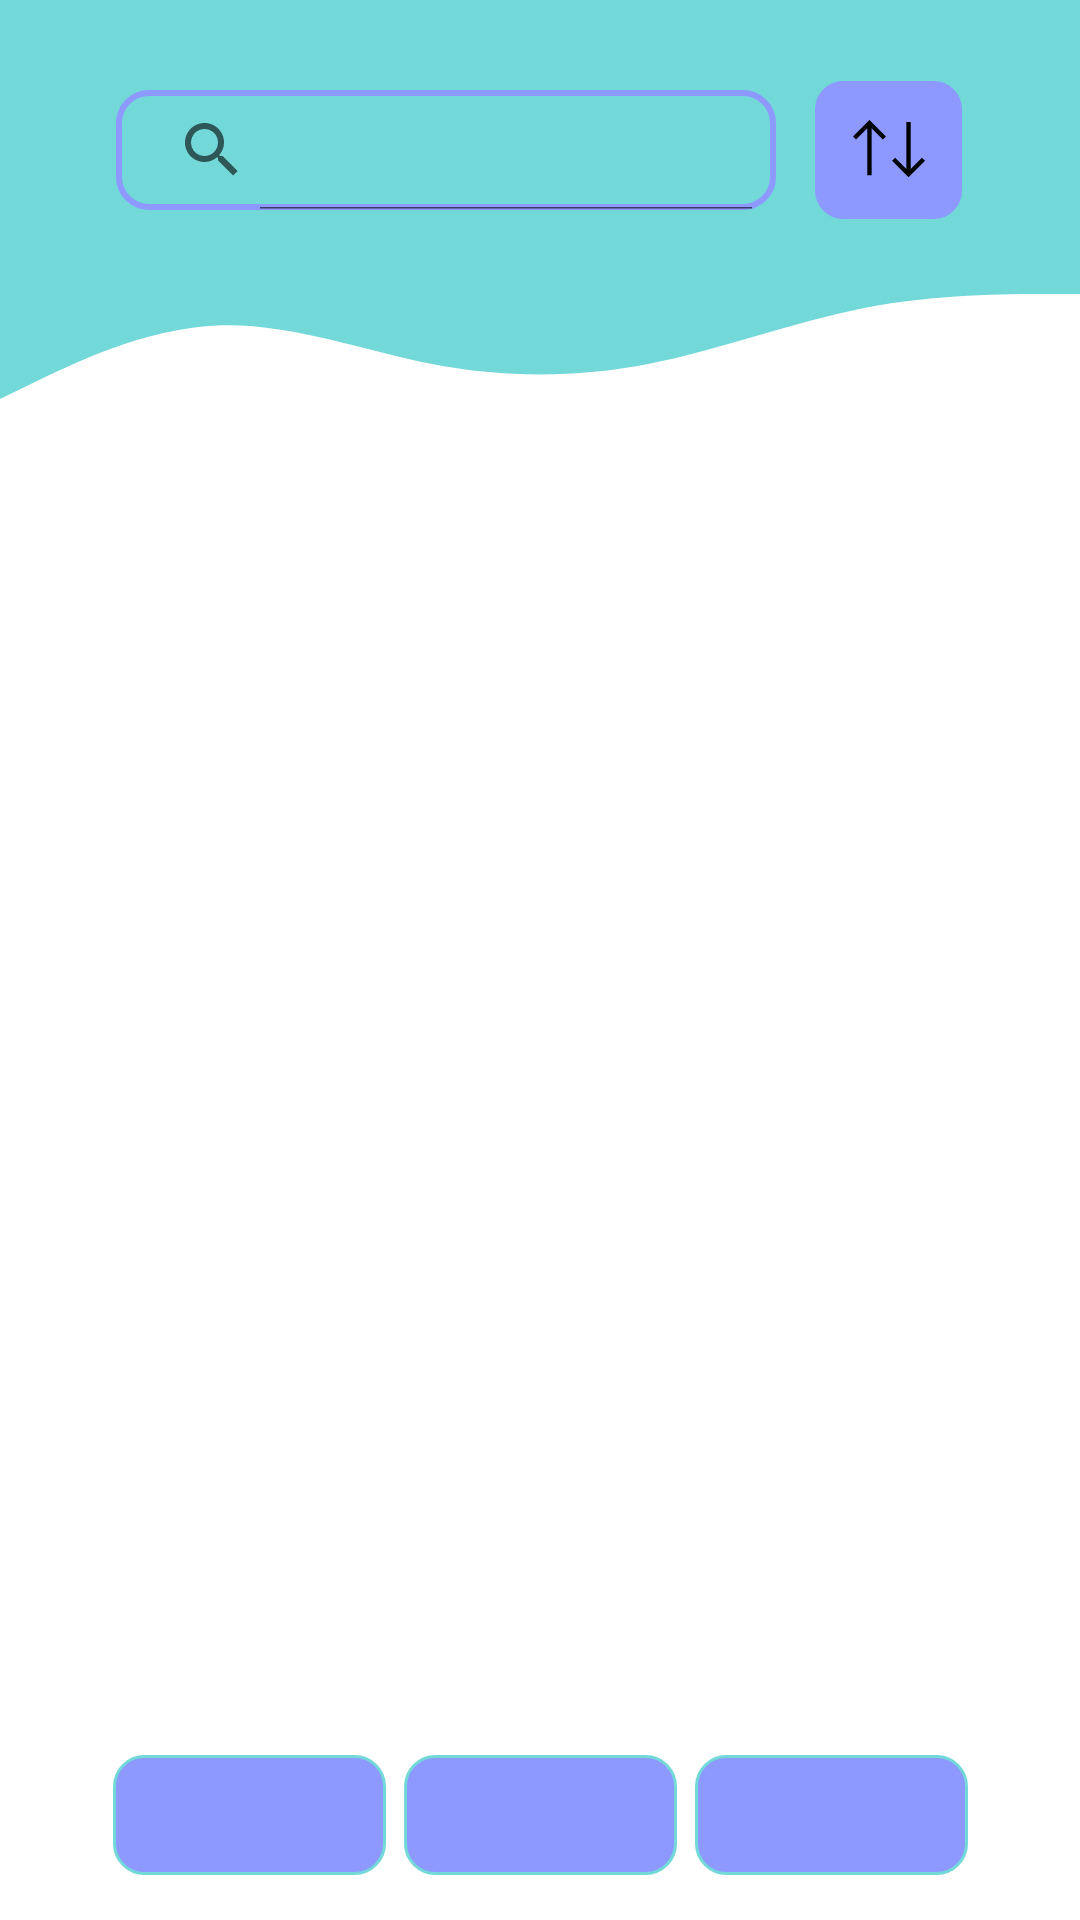

Icon bounding boxes for this 1080*1920 phone screenshot, format rect(x1, y1, x2, y2):
Сортировка по алфавиту: rect(815, 81, 962, 219)
